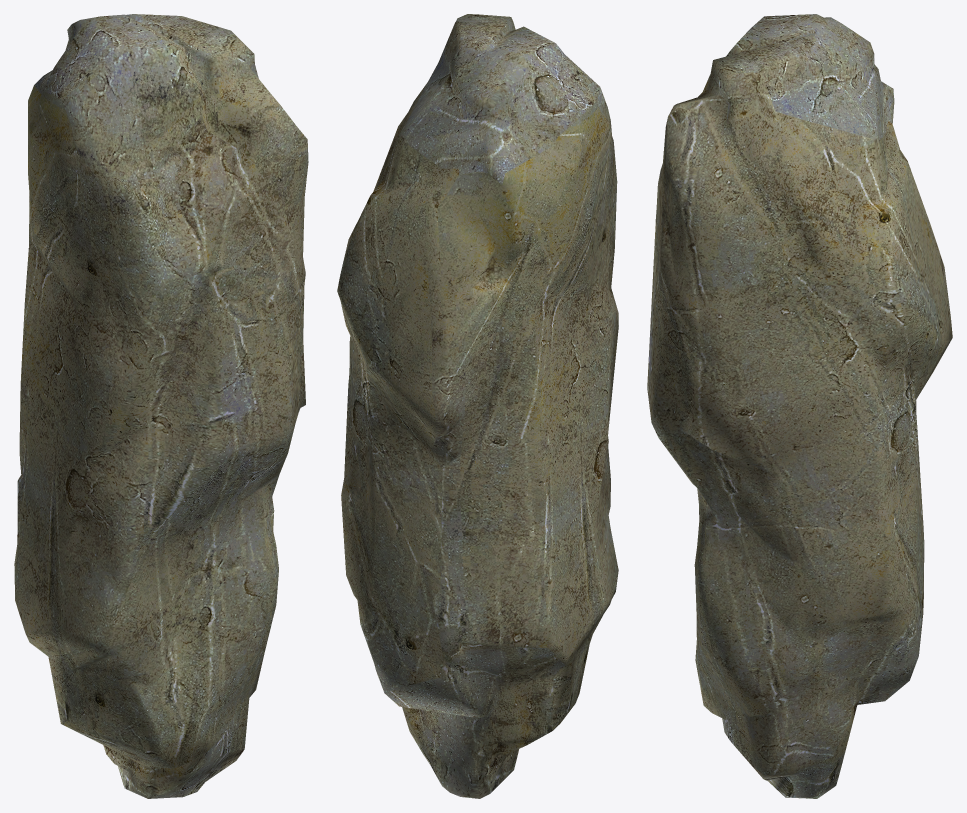
Rendered from cliff1.fbx.
3 views of the same model, side by side, from view 1: azimuth 30°, elevation 25°; view 2: azimuth 150°, elevation 25°; view 3: azimuth 270°, elevation 25° (orthographic). The views are drawn at different scales.
Parts seen in each view (by area): view 1: cliff1; view 2: cliff1; view 3: cliff1.
Boxes of the visible parts, x1=… form: cliff1: x1=14, y1=14, x2=308, y2=798; cliff1: x1=337, y1=14, x2=618, y2=798; cliff1: x1=647, y1=14, x2=952, y2=798.
Size of the model in its own units: 1542 by 5323 by 1977.
Materials: 1 (1 with a texture image).
